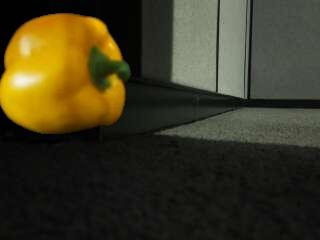Capsicum: (0, 12, 133, 137)
